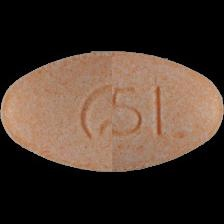0228-2851: (0, 0, 224, 224)
